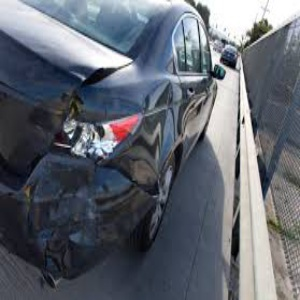bumper: (6, 156, 163, 287)
tail_lights: (54, 112, 145, 156)
